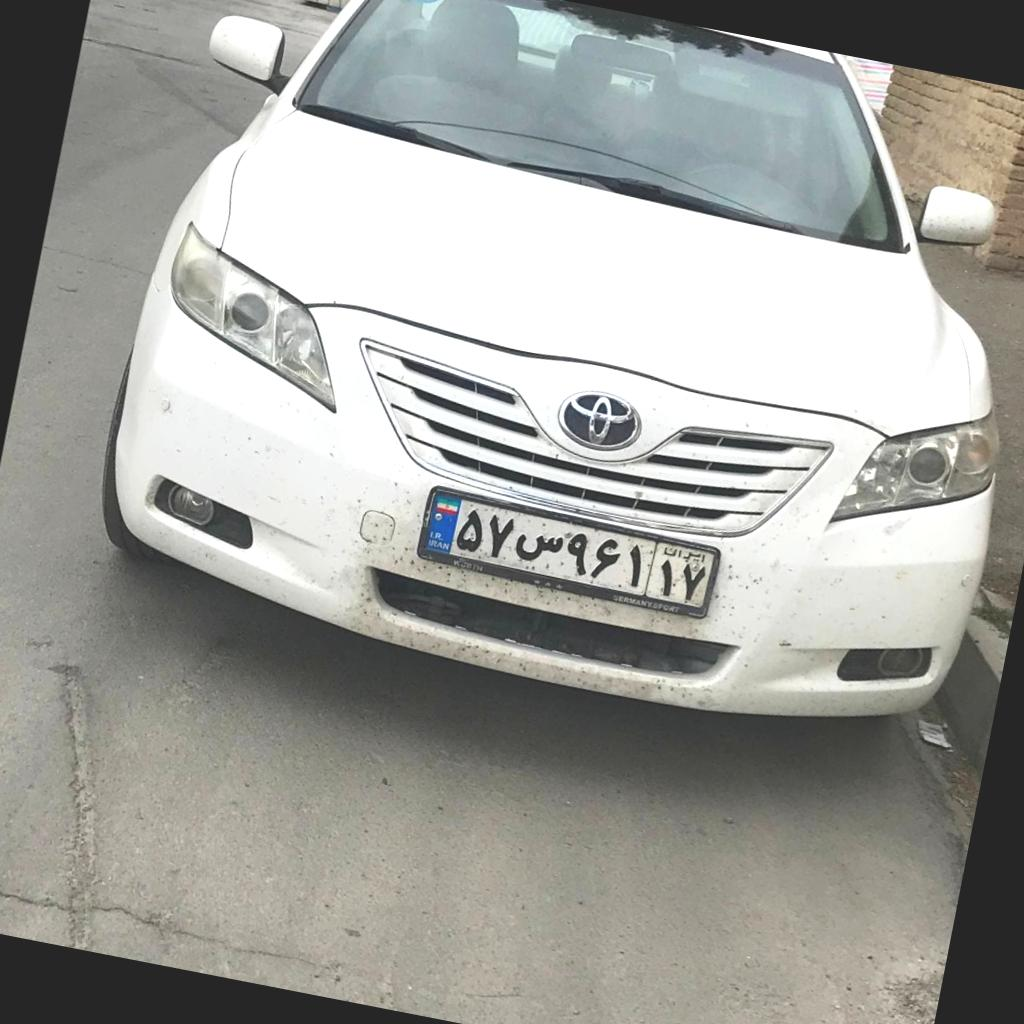Plates: (423, 492, 716, 608)
